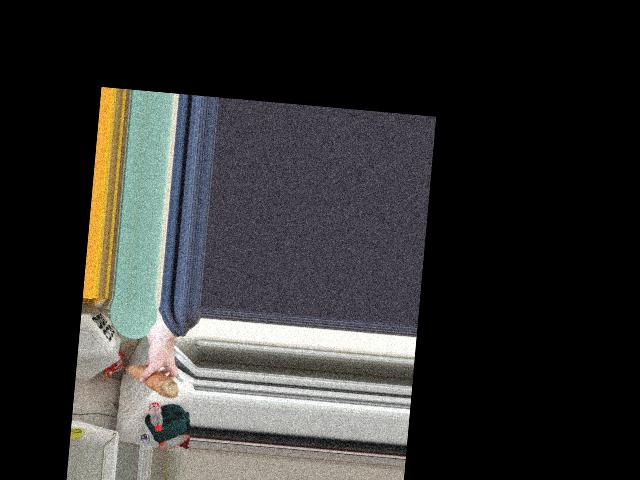sweet_potato: (127, 359, 177, 400)
